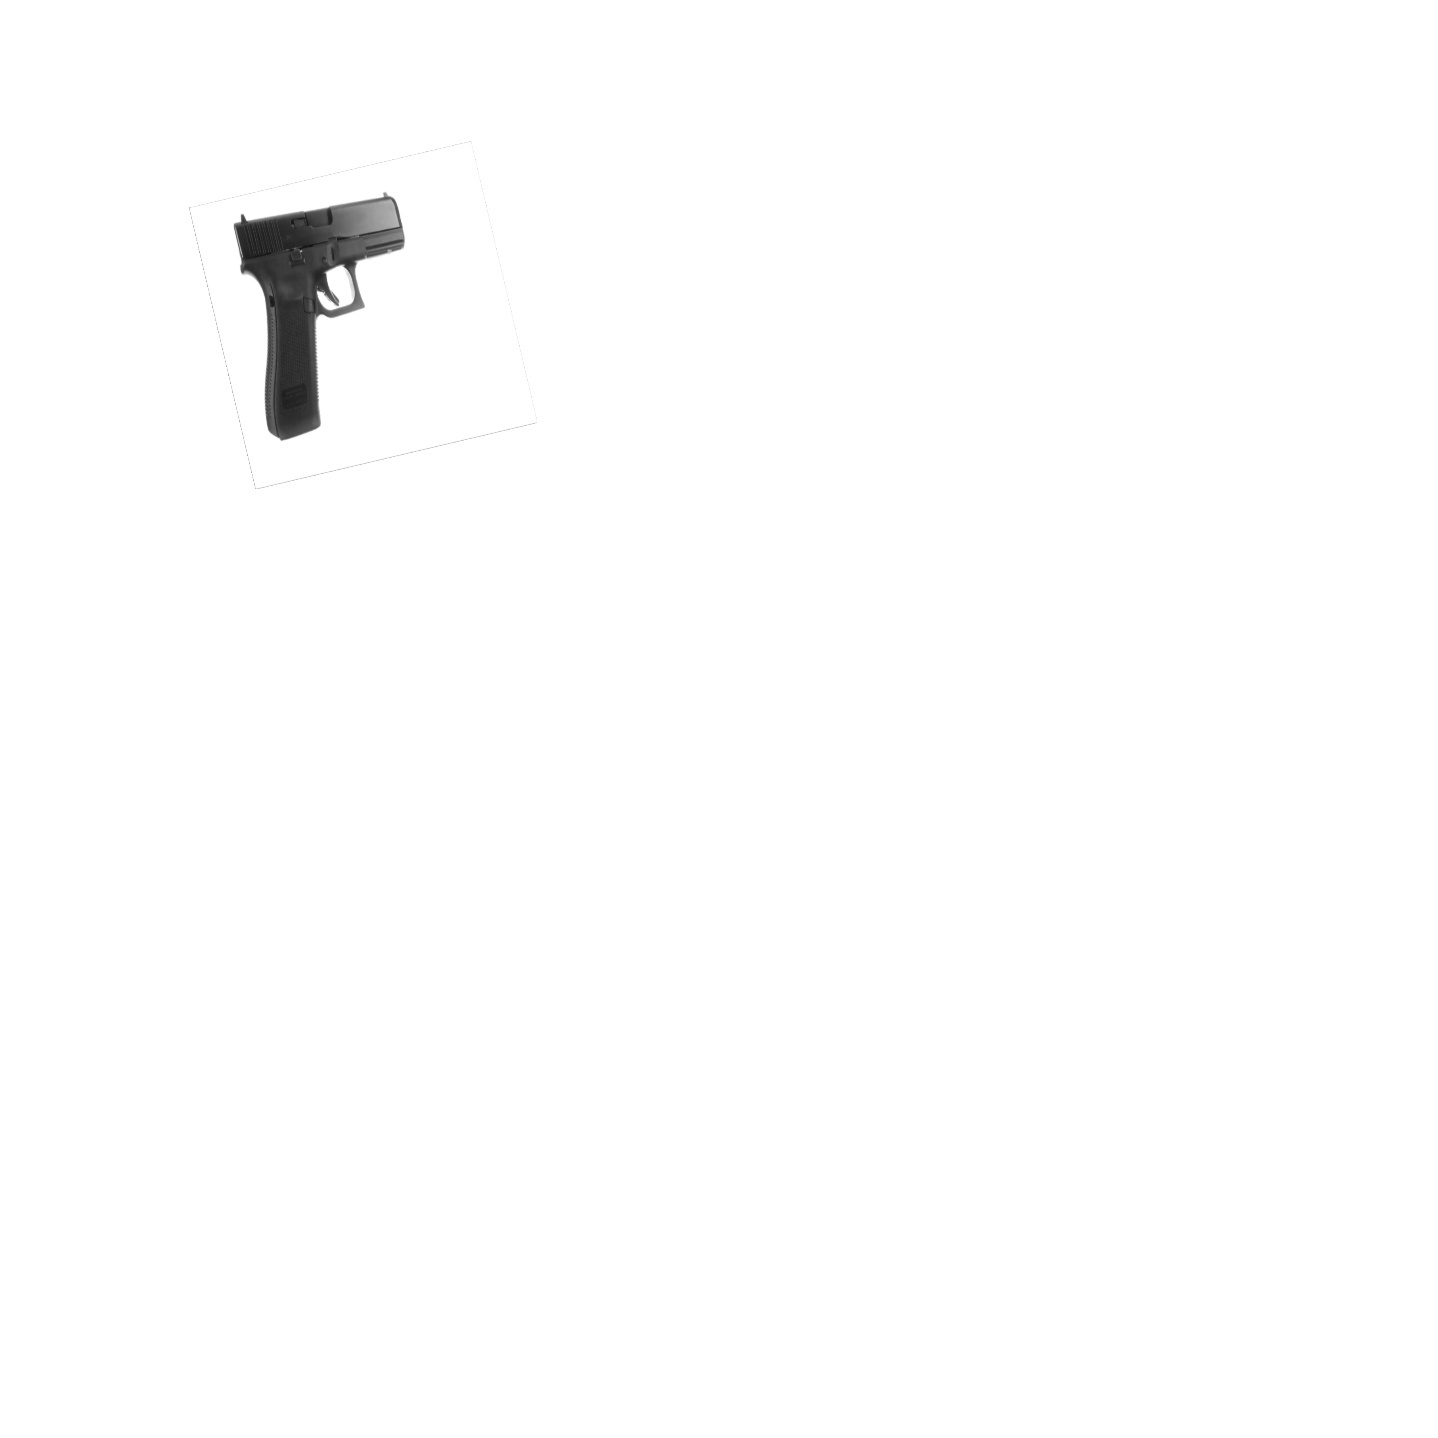gun: (226, 179, 417, 446)
